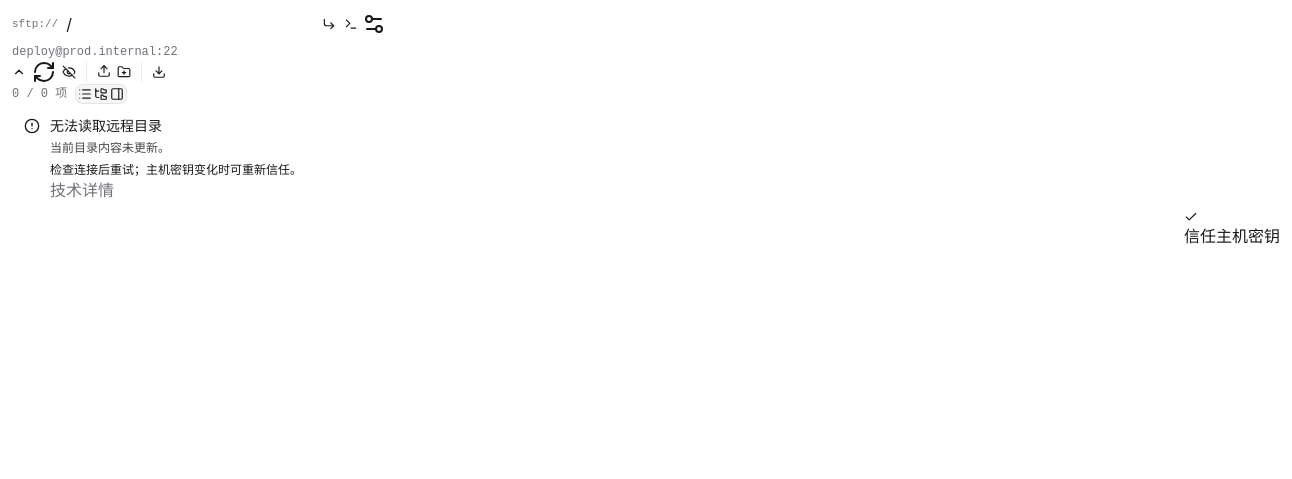
Test case: SftpToolContent remote browser requests › hides raw directory failures behind a recoverable summary
The image size is (1292, 479).
Expected: the text "无法读取远程目录" is shown, [50,117,162,134]
Expected: the text "检查连接后重试；主机密钥变化时可重新信任。" is shown, [50,162,302,177]
What coordinates should you click on to do the following:
click the heading "技术详情"
I would click on:
 (82, 190)
Its box is [50,178,114,202].
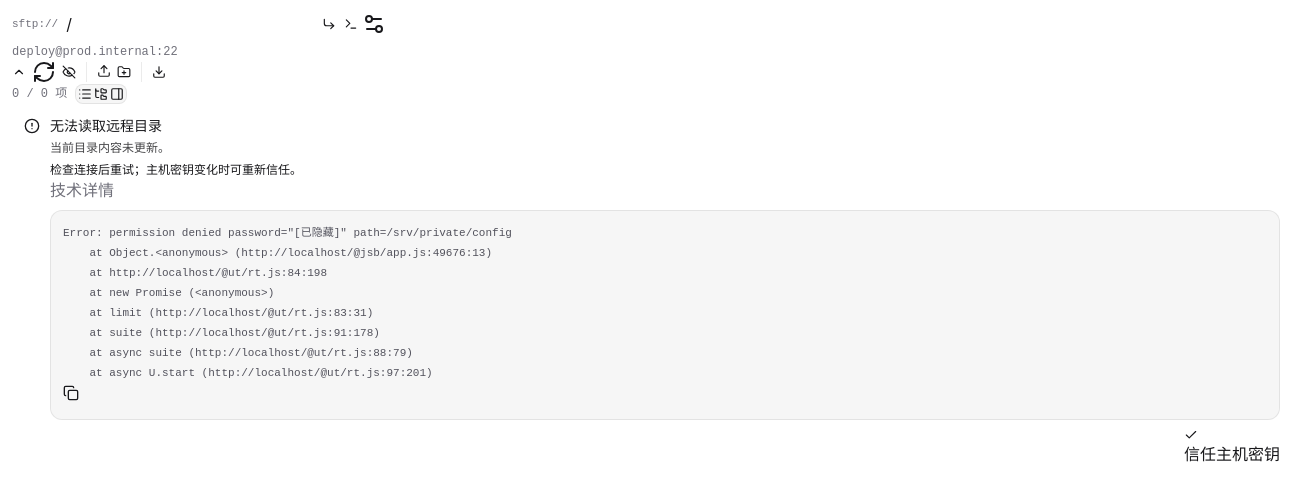
Expected: the text "password=\"[已隐藏]\"" is shown, [63,227,512,379]
